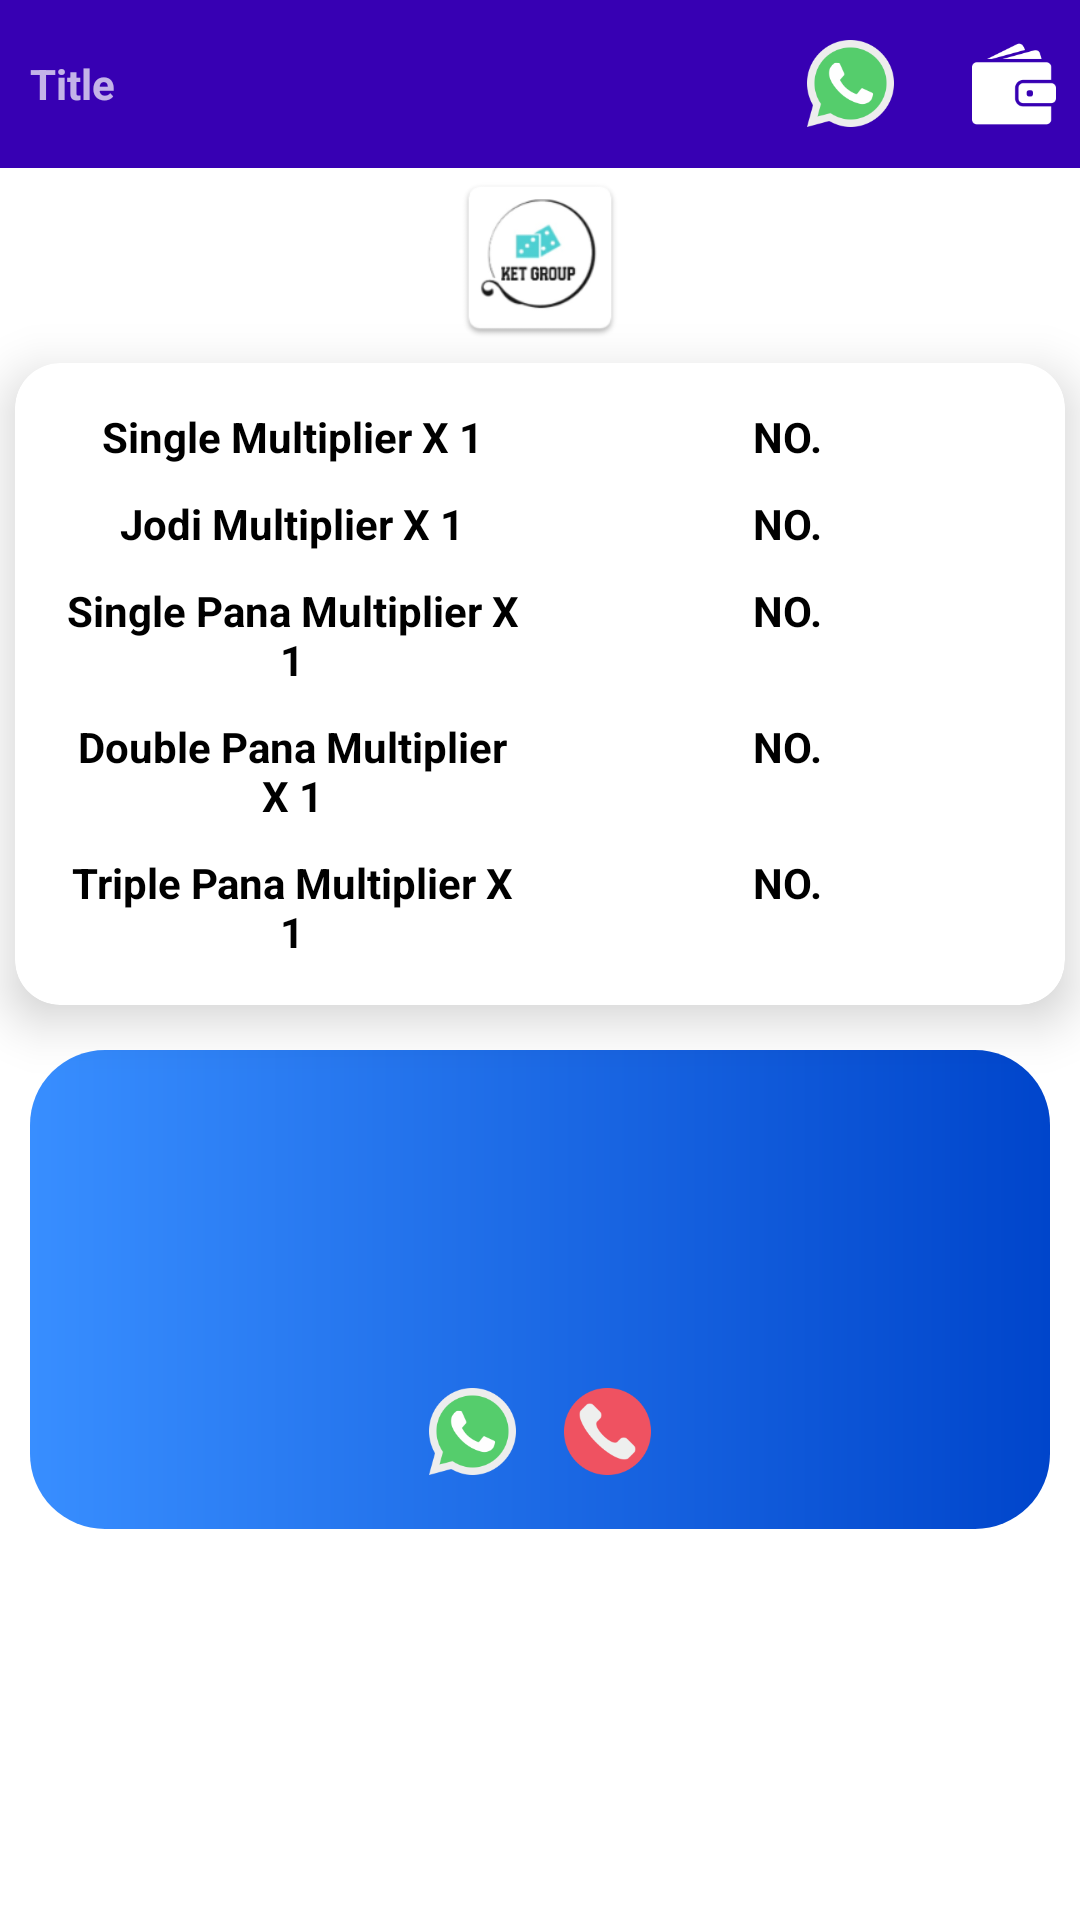

Screen size 1080 x 1920. Icon name, then its box in pixels as [x1=x1, y1=y1, x2=x2, y2=y2]:
phone call: [x1=564, y1=1388, x2=651, y2=1475]
